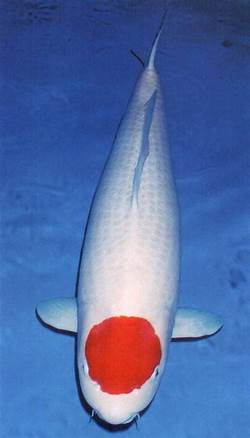sun: (36, 11, 222, 426)
